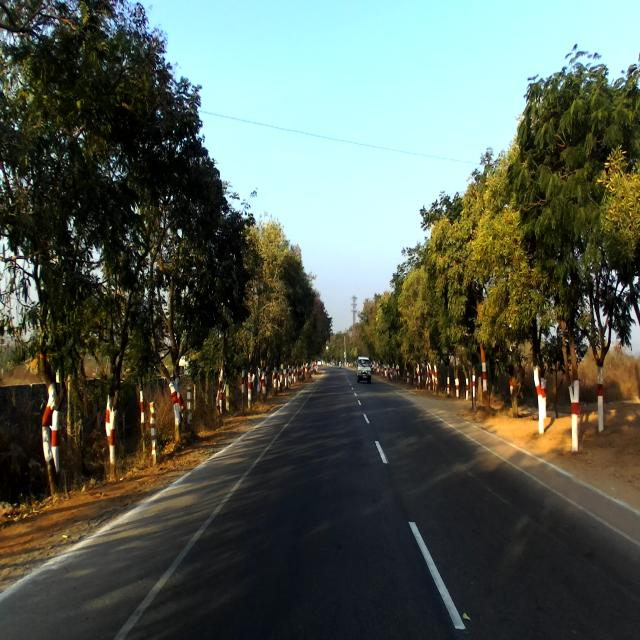tree ahead at: (35, 352, 67, 501), (100, 356, 124, 471), (162, 358, 189, 443)
